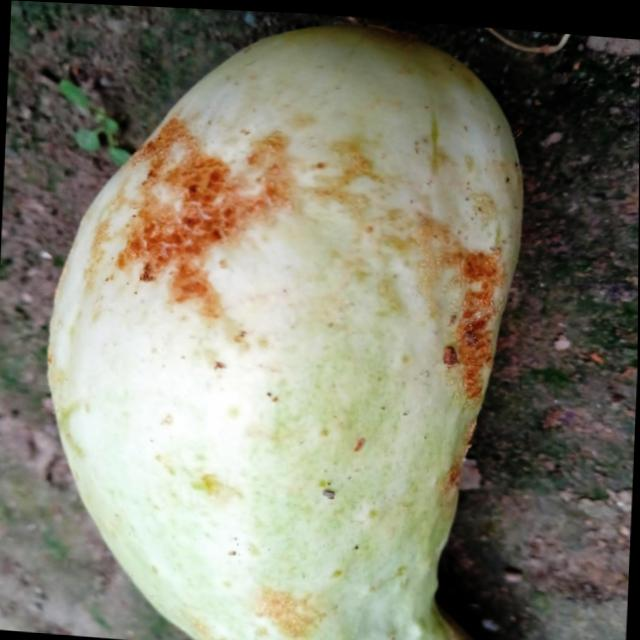Belly-Rot: (108, 99, 304, 325), (421, 217, 509, 503), (258, 578, 322, 637)
